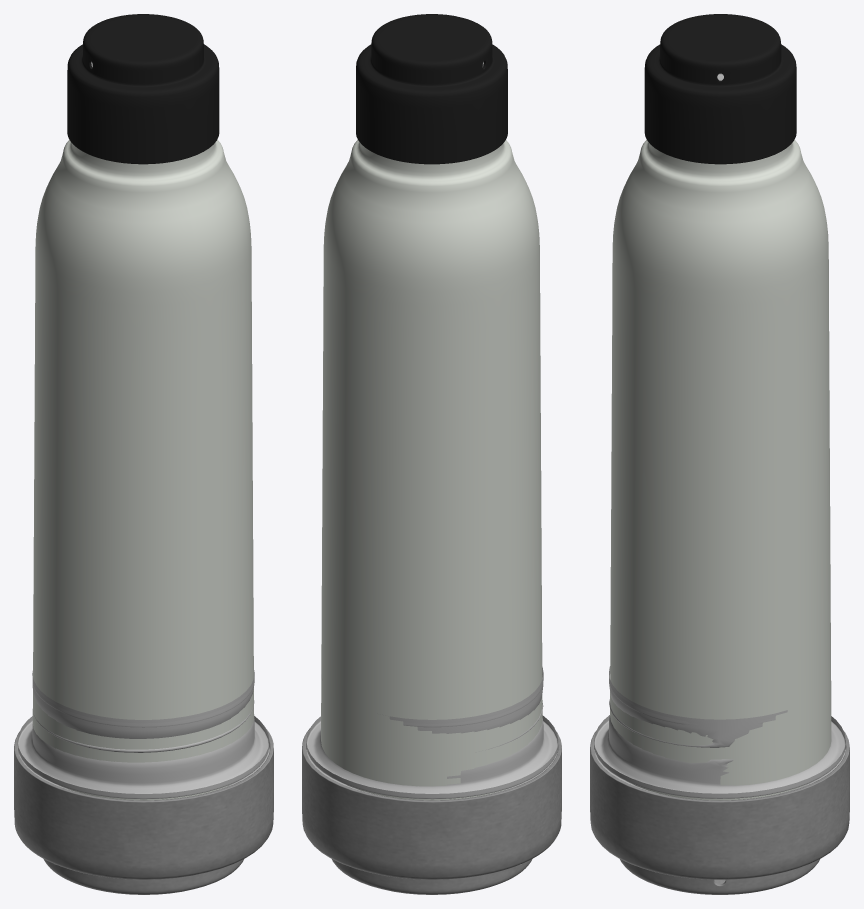
The model's file is waterfilter_final.glb.
3 views of the same model, side by side, from view 1: azimuth 30°, elevation 25°; view 2: azimuth 150°, elevation 25°; view 3: azimuth 270°, elevation 25° (orthographic).
Parts seen in each view (by area): view 1: Base, Cap, Cap.001; view 2: Base, Cap, Cap.001; view 3: Base, Cap, Cap.001.
Part boxes in pixels (x1,y1,x2,y2): Base: (32, 139, 254, 800); Cap: (14, 670, 273, 894); Cap.001: (67, 14, 219, 164); Base: (321, 139, 542, 800); Cap: (302, 667, 561, 894); Cap.001: (356, 14, 507, 164); Base: (610, 139, 831, 800); Cap: (590, 666, 849, 894); Cap.001: (644, 14, 796, 164).
Size of the model in its own units: 0.1433 by 0.4963 by 0.1433.
Materials: 6 (3 with a texture image).
